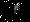person: (9, 2, 20, 18)
